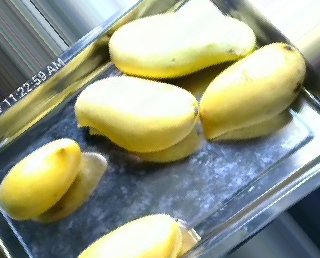Mango: (201, 41, 307, 139), (74, 77, 198, 155), (109, 12, 255, 74), (0, 136, 83, 218), (72, 213, 180, 258)
